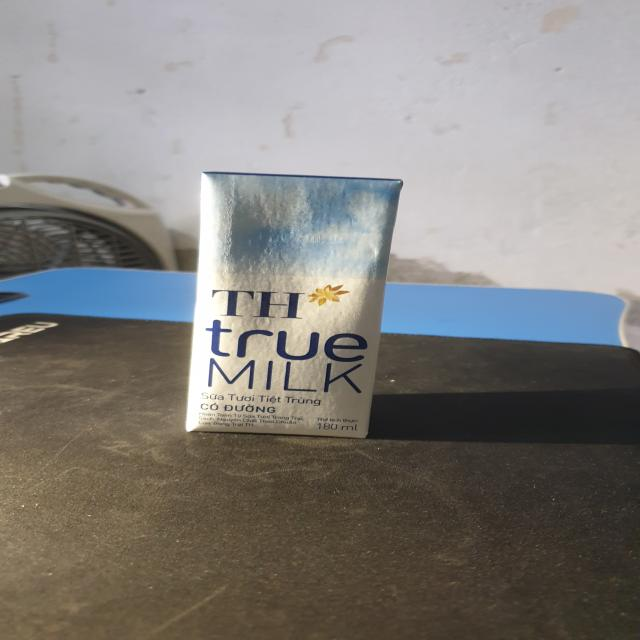TH: (187, 172, 405, 439)
